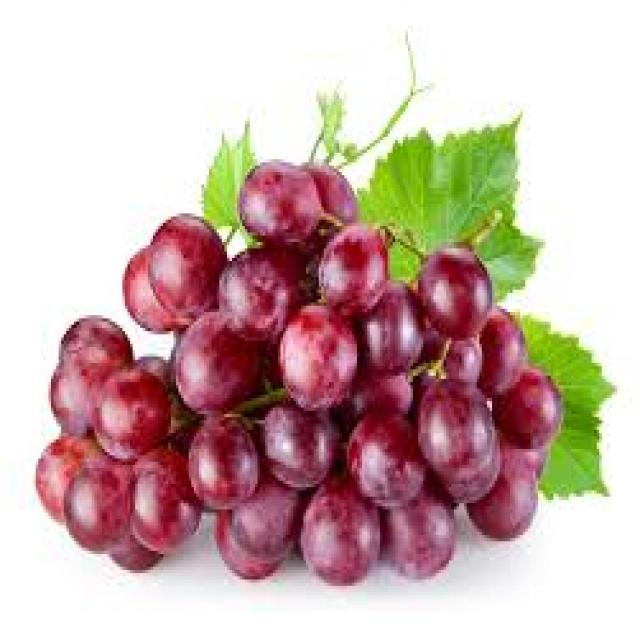organic waste: (357, 111, 543, 302), (502, 306, 610, 500), (168, 302, 260, 408), (296, 468, 380, 583), (145, 210, 227, 322), (276, 296, 360, 404), (216, 242, 308, 334), (416, 372, 492, 478), (125, 442, 196, 548), (237, 156, 321, 245), (380, 468, 451, 573), (344, 411, 423, 503), (202, 124, 262, 245), (86, 366, 166, 455), (224, 468, 304, 557), (311, 220, 385, 315), (56, 315, 130, 408), (416, 242, 490, 331), (61, 458, 133, 548), (33, 433, 110, 516), (186, 411, 255, 503), (258, 404, 336, 484), (122, 242, 192, 328), (357, 277, 421, 363), (495, 360, 558, 442), (212, 506, 283, 576), (434, 423, 494, 500), (477, 302, 525, 398), (304, 153, 354, 232), (308, 90, 359, 162), (344, 360, 408, 414), (426, 325, 479, 385), (46, 360, 87, 433), (104, 525, 160, 567), (255, 338, 283, 386), (130, 354, 168, 386)
